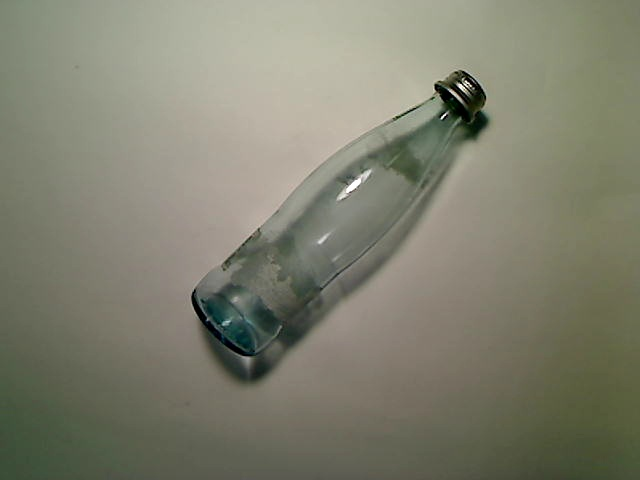bottle: (191, 69, 487, 358)
